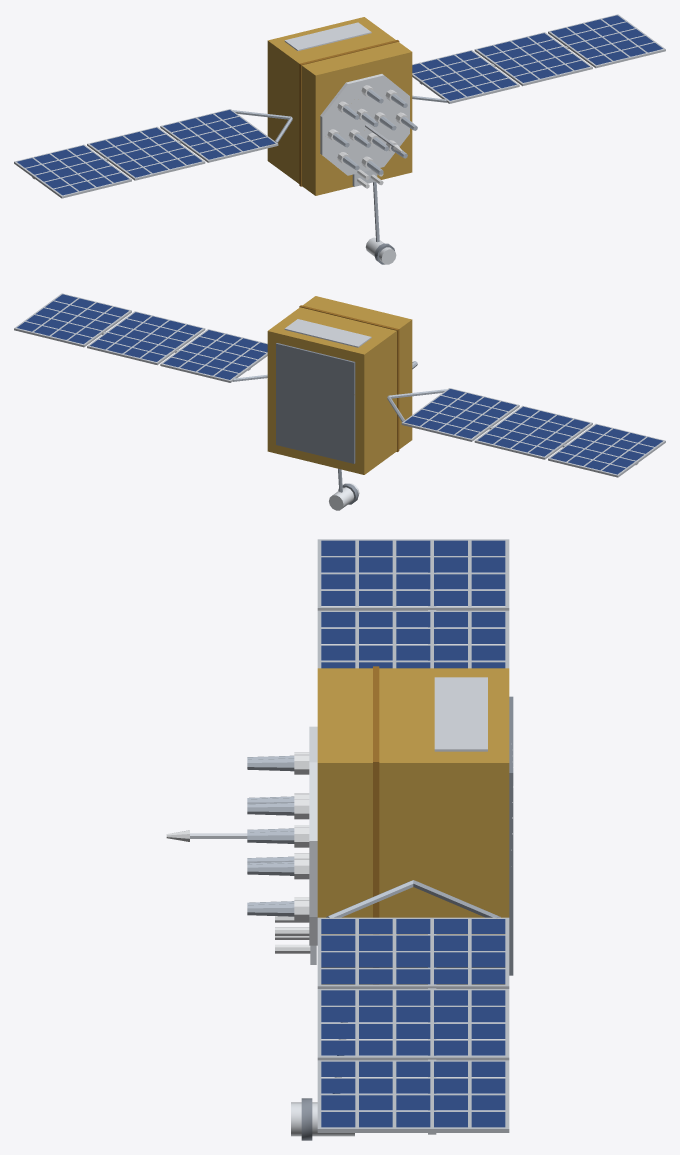
The model's file is gps-iif.glb.
3 renders of one model, top to bottom at view 1: azimuth 30°, elevation 25°; view 2: azimuth 150°, elevation 25°; view 3: azimuth 270°, elevation 25°, orthographic. The views are drawn at different scales.
Parts seen in each view (by area): view 1: body, solar-panel, foil; view 2: body, solar-panel, foil; view 3: solar-panel, foil, body.
Part boxes in pixels (left/top/right/bottom): body: left=14, top=14, right=665, bottom=264; solar-panel: left=17, top=15, right=662, bottom=195; foil: left=267, top=17, right=412, bottom=195; body: left=14, top=293, right=665, bottom=510; solar-panel: left=17, top=294, right=662, bottom=474; foil: left=267, top=296, right=412, bottom=474; solar-panel: left=321, top=540, right=505, bottom=1127; foil: left=317, top=668, right=509, bottom=984; body: left=166, top=539, right=513, bottom=1140.
Bounding box in the file's own units: 13.11 × 4.23 × 3.26.
